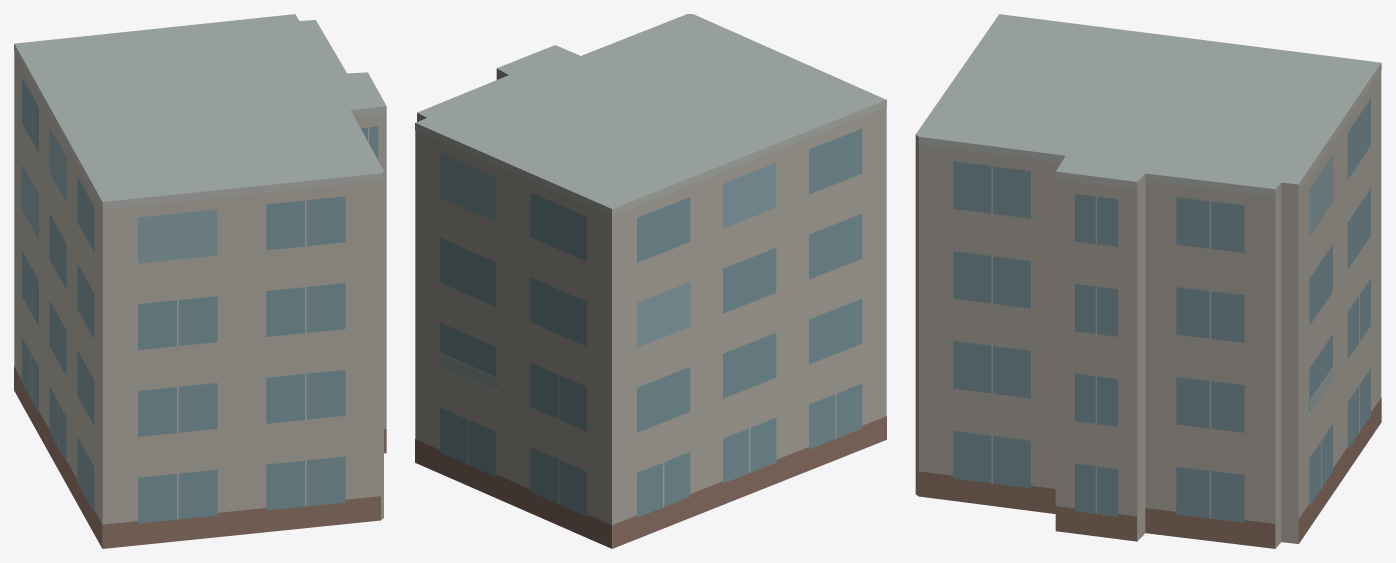
Rendered from survey-upis-32872679.glb.
3 renders of one model, left to right at view 1: azimuth 30°, elevation 25°; view 2: azimuth 150°, elevation 25°; view 3: azimuth 270°, elevation 25°, orthographic. The views are drawn at different scales.
Visible parts, largest first — view 1: survey-upis-32872679.tmp; view 2: survey-upis-32872679.tmp; view 3: survey-upis-32872679.tmp.
Boxes of the visible parts, bbox=[...] form: survey-upis-32872679.tmp: bbox=[14, 14, 386, 548]; survey-upis-32872679.tmp: bbox=[415, 14, 886, 548]; survey-upis-32872679.tmp: bbox=[915, 14, 1381, 548].
Size of the model in its own units: 12.19 by 11.65 by 13.69.
